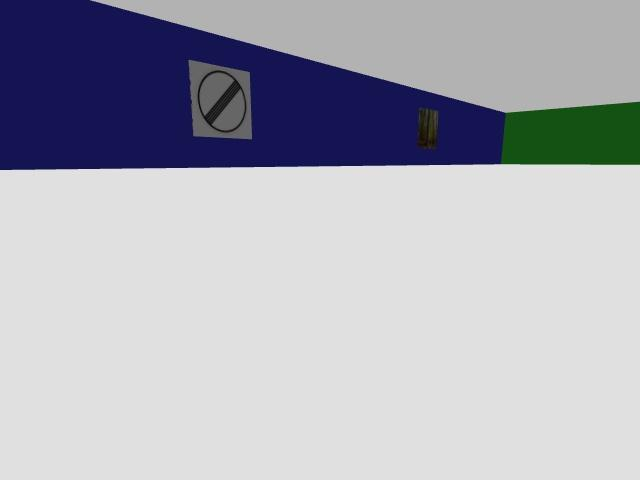fastsign: (189, 60, 250, 139)
tree: (426, 110, 434, 147)
